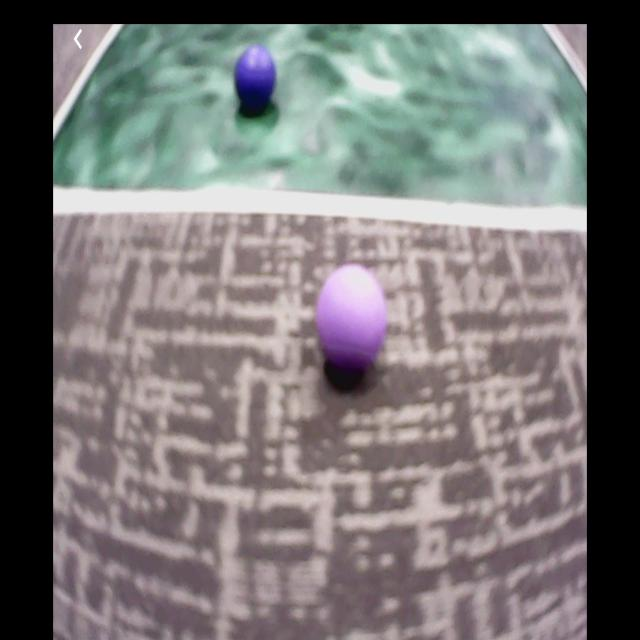ball: (318, 264, 385, 365), (236, 48, 274, 106)
